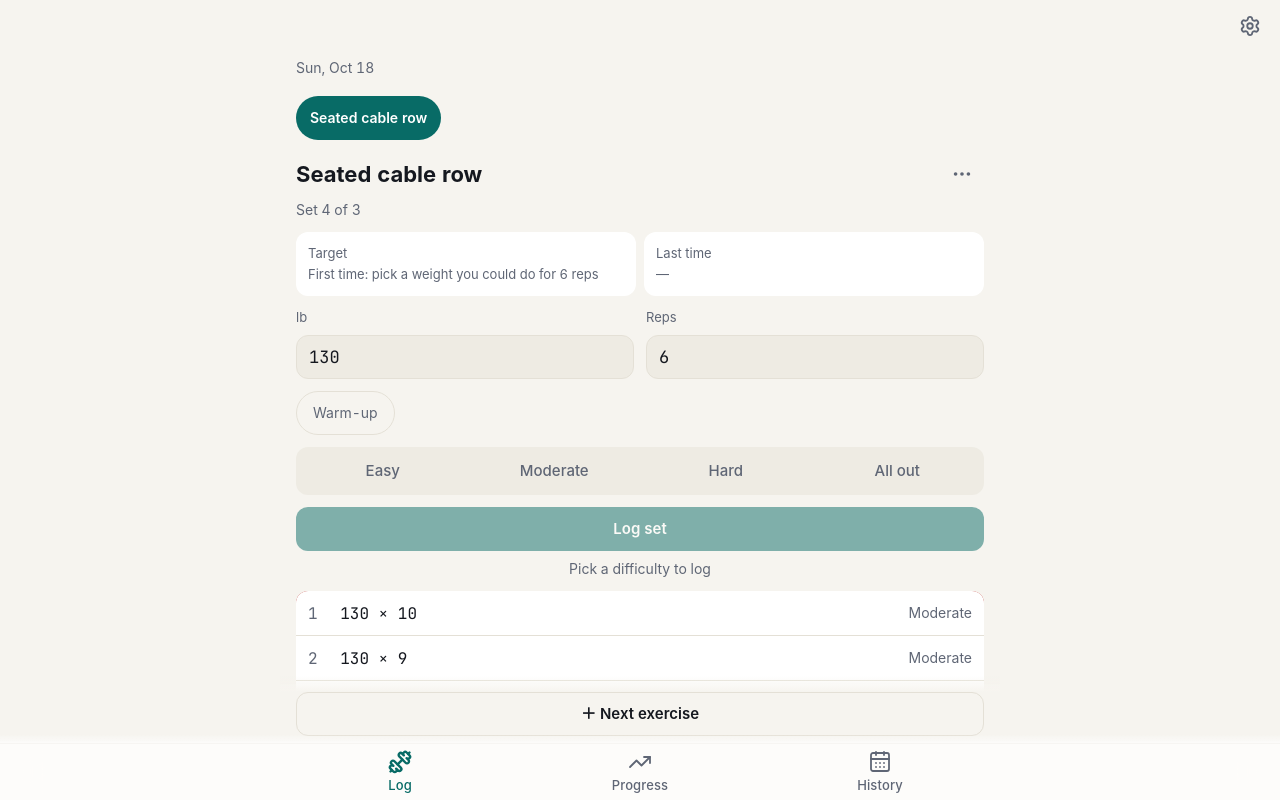
wave 3 review › a swipe that springs back doesn't swallow the next tap
The width and height of the screenshot is (1280, 800).
Press the mouse on the list item "Delete 2 130 × 9 Moderate" at (640, 658), box [296,635,984,680]
Click the button "2 130 × 9 Moderate" at (374, 658), box [296,636,984,680]
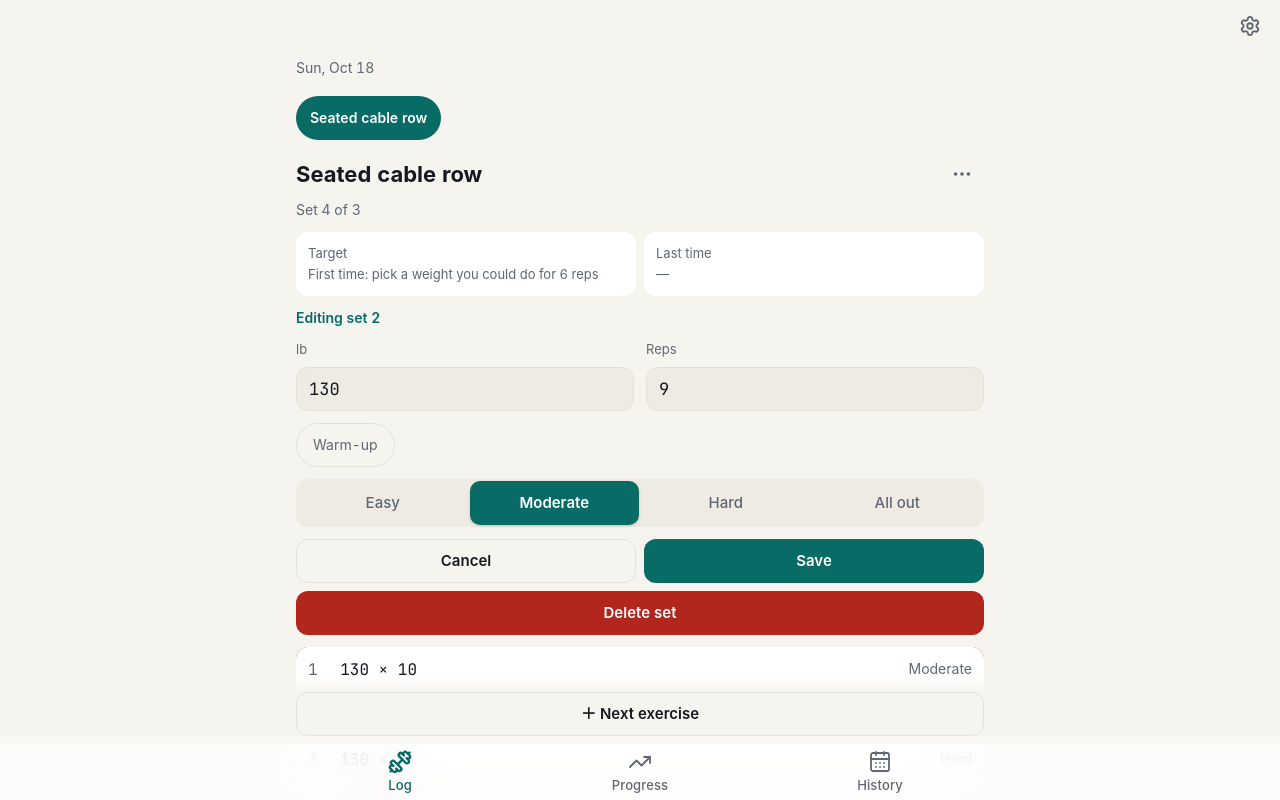
Expected: the text "Editing set 2" is shown, [296,309,380,326]
